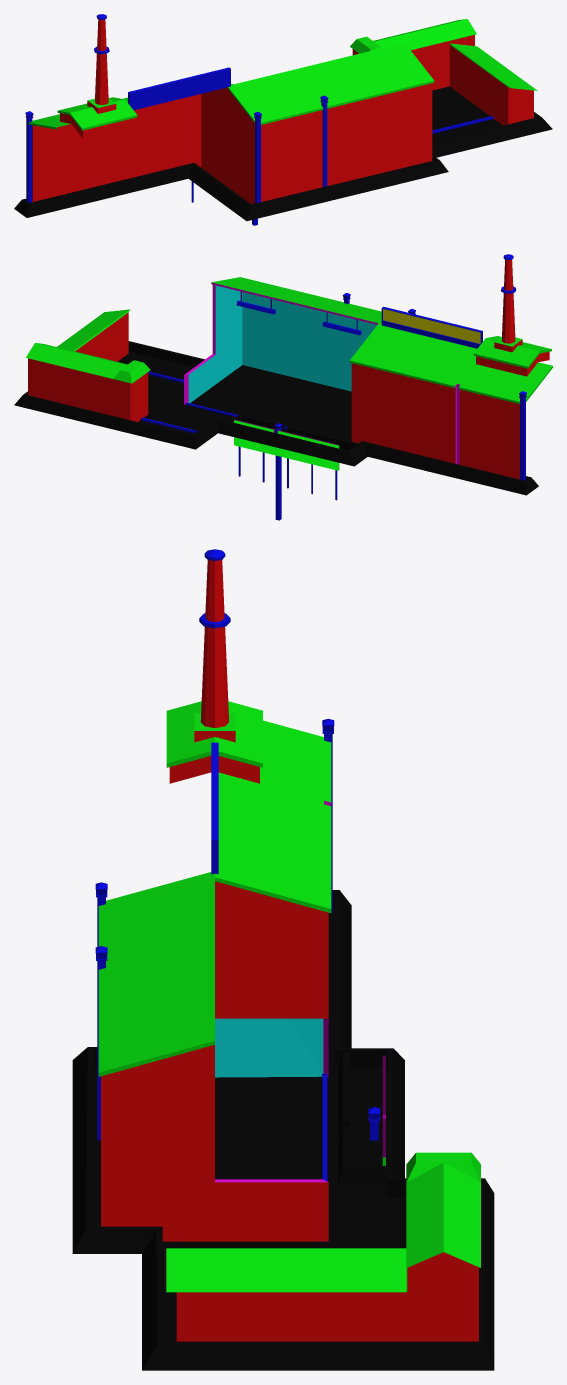
The model's file is Factory_2.0.fbx.
3 renders of one model, top to bottom at view 1: azimuth 30°, elevation 25°; view 2: azimuth 150°, elevation 25°; view 3: azimuth 270°, elevation 25°, orthographic. The views are drawn at different scales.
Parts seen in each view (by area): view 1: mesh_factory; view 2: mesh_factory; view 3: mesh_factory.
Part boxes in pixels (left/top/right/bottom): mesh_factory: left=14, top=14, right=552, bottom=225; mesh_factory: left=14, top=254, right=552, bottom=520; mesh_factory: left=72, top=549, right=494, bottom=1370.
Bounding box in the file's own units: 2948 × 1667 × 1129.
